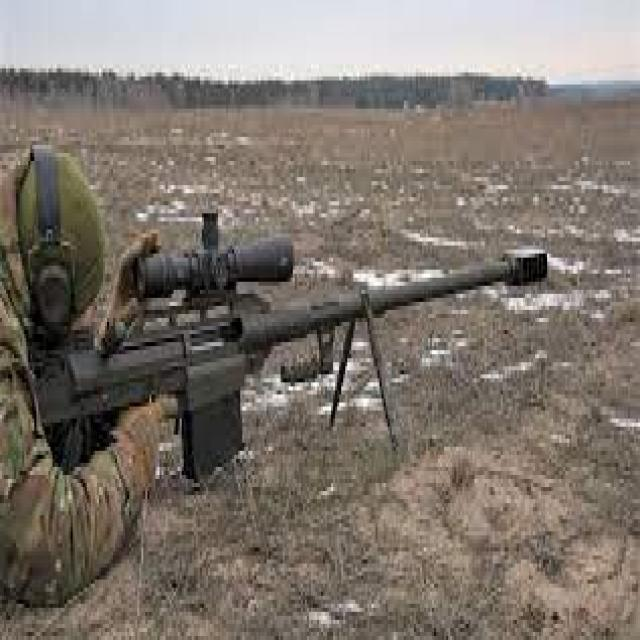rifle: (31, 206, 554, 492)
